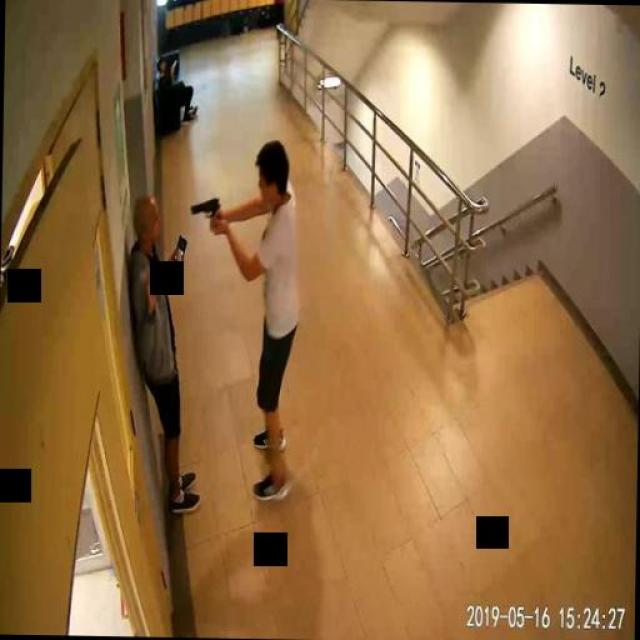gun: (189, 195, 219, 231)
